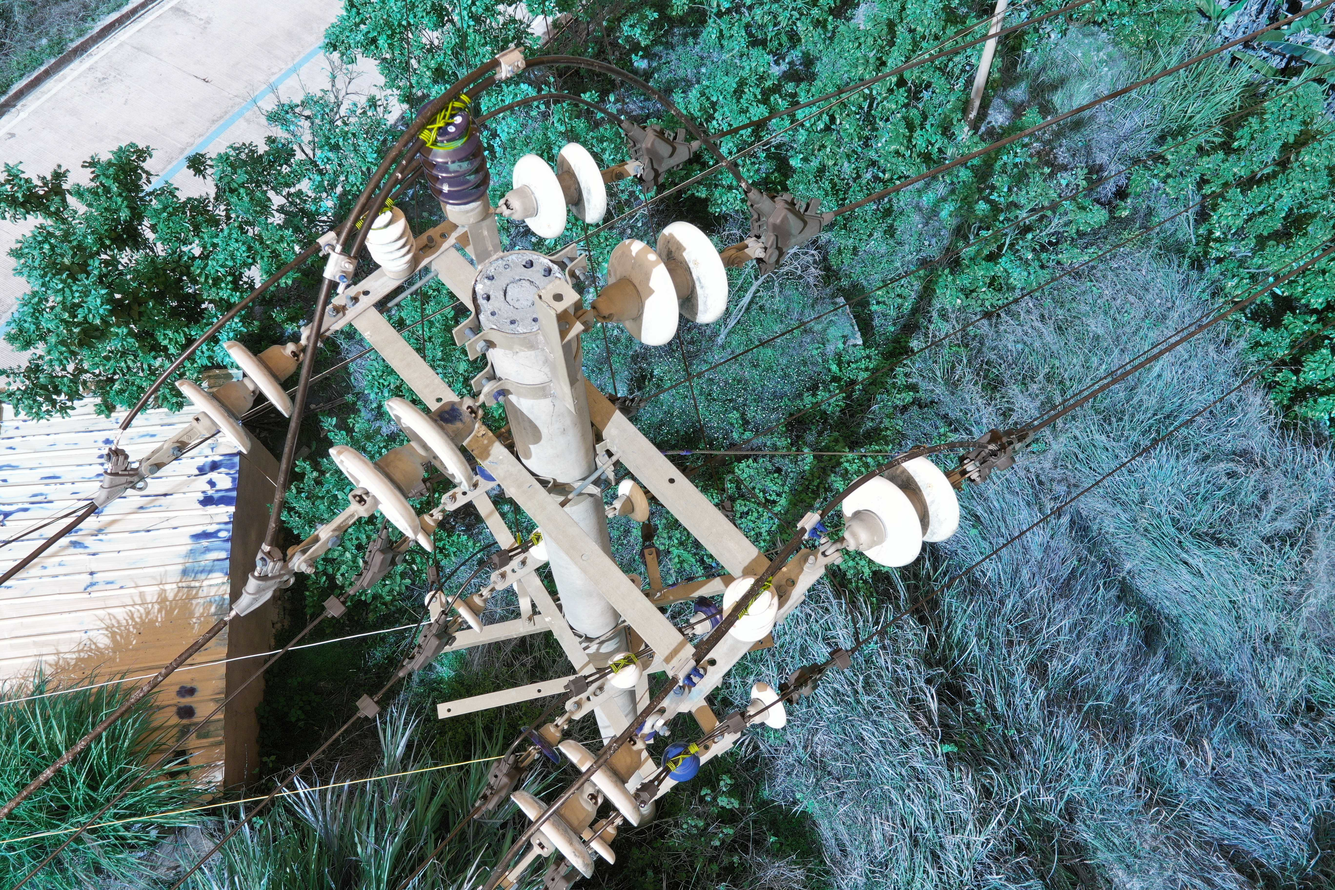severe_soiling_no_discharge_whole: (506, 728, 659, 880), (589, 217, 729, 348), (173, 335, 303, 453), (836, 453, 963, 569), (496, 138, 607, 242), (412, 97, 493, 226), (359, 204, 418, 283)
